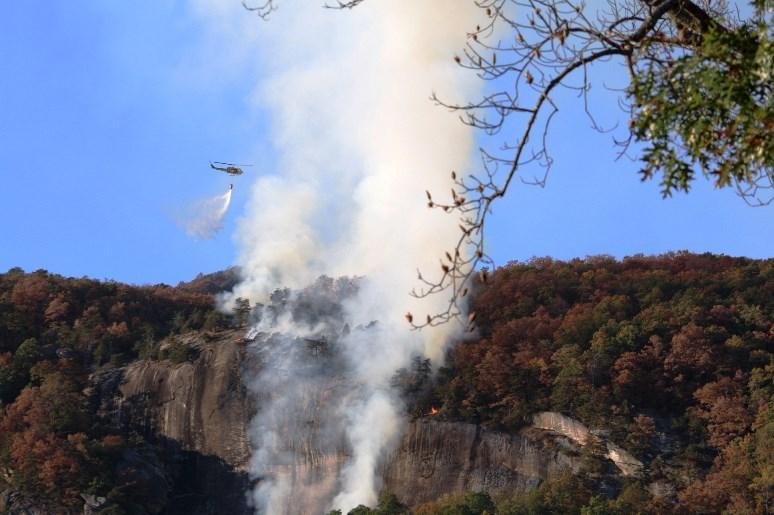smoke: (286, 25, 455, 269)
